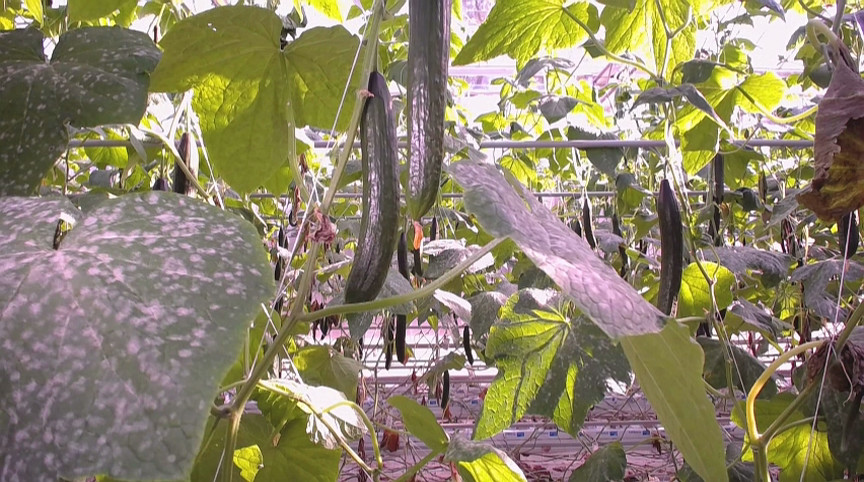cucumber: (342, 68, 399, 305), (404, 1, 455, 221), (654, 180, 684, 319), (173, 133, 201, 197), (838, 211, 862, 258), (397, 234, 411, 281), (396, 314, 407, 363)
